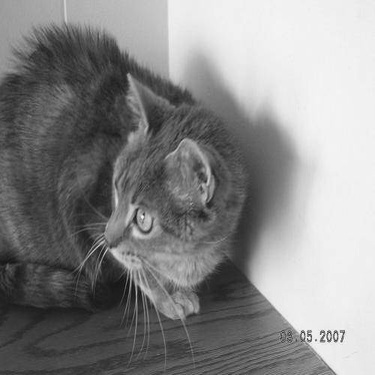cat: (1, 23, 250, 316)
